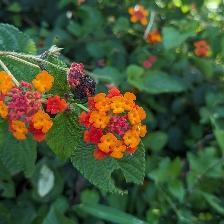common lanthana: (80, 87, 154, 162), (1, 72, 67, 134), (129, 1, 150, 27), (194, 41, 213, 59), (148, 29, 165, 48)
